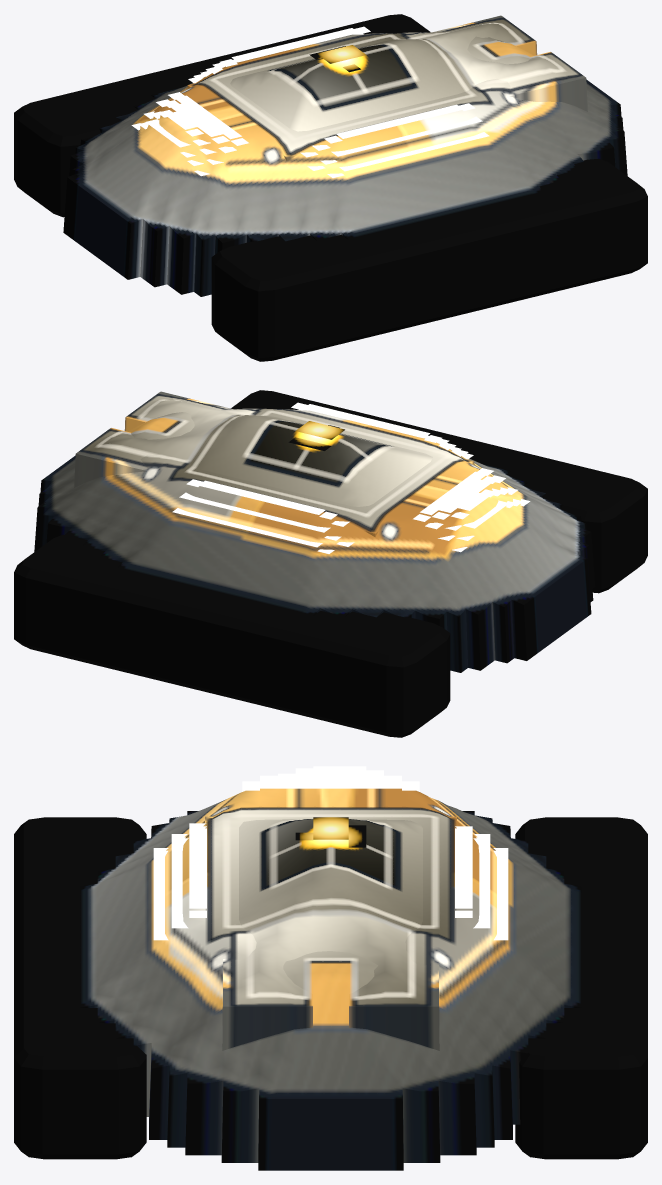
The picture shows the model from 3 angles, top to bottom: view 1: azimuth 30°, elevation 25°; view 2: azimuth 150°, elevation 25°; view 3: azimuth 270°, elevation 25°; orthographic projection. The views are drawn at different scales.
Visible parts, largest first — view 1: chassis-heightfield, locomotion-right, builder-rig-relief, locomotion-left, semantic-team-surfaces, authored-emissive-surfaces; view 2: chassis-heightfield, locomotion-left, builder-rig-relief, locomotion-right, semantic-team-surfaces, authored-emissive-surfaces; view 3: chassis-heightfield, builder-rig-relief, locomotion-right, locomotion-left, semantic-team-surfaces, authored-emissive-surfaces.
Boxes of the visible parts, x1,y1,x2,y2 form: chassis-heightfield: (63, 31, 627, 296); locomotion-right: (211, 158, 647, 361); builder-rig-relief: (187, 15, 587, 160); locomotion-left: (14, 14, 430, 217); semantic-team-surfaces: (131, 26, 489, 177); authored-emissive-surfaces: (309, 45, 365, 72); chassis-heightfield: (34, 408, 595, 672); locomotion-left: (14, 534, 450, 737); builder-rig-relief: (74, 391, 474, 536); locomotion-right: (231, 390, 647, 593); semantic-team-surfaces: (172, 402, 530, 553); authored-emissive-surfaces: (288, 421, 344, 450); chassis-heightfield: (80, 788, 581, 1170); builder-rig-relief: (205, 816, 456, 1050); locomotion-right: (14, 817, 146, 1159); locomotion-left: (515, 817, 647, 1159); semantic-team-surfaces: (153, 766, 508, 940); authored-emissive-surfaces: (295, 817, 366, 847).
Size of the model in its own units: 0.9 by 0.297 by 0.784.
5 materials, 4 textured.
